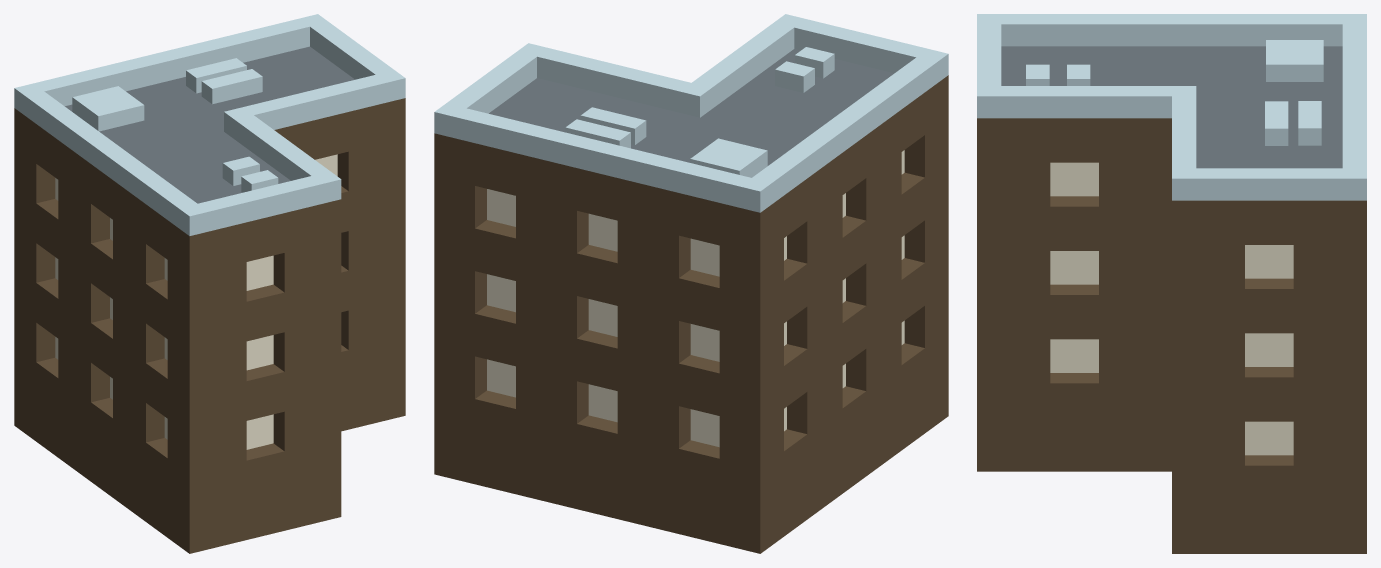
File: Building_3_Extra (Brown).obj
The picture shows the model from 3 angles, left to right: view 1: azimuth 30°, elevation 25°; view 2: azimuth 150°, elevation 25°; view 3: azimuth 270°, elevation 25°; orthographic projection. The views are drawn at different scales.
Parts seen in each view (by area): view 1: Building_3_Extra_(Brown); view 2: Building_3_Extra_(Brown); view 3: Building_3_Extra_(Brown).
Part boxes in pixels (x1,y1,x2,y2): Building_3_Extra_(Brown): (14,14,405,553); Building_3_Extra_(Brown): (434,14,948,553); Building_3_Extra_(Brown): (977,14,1366,553).
Size of the model in its own units: 1.6 by 1.7 by 1.6.
